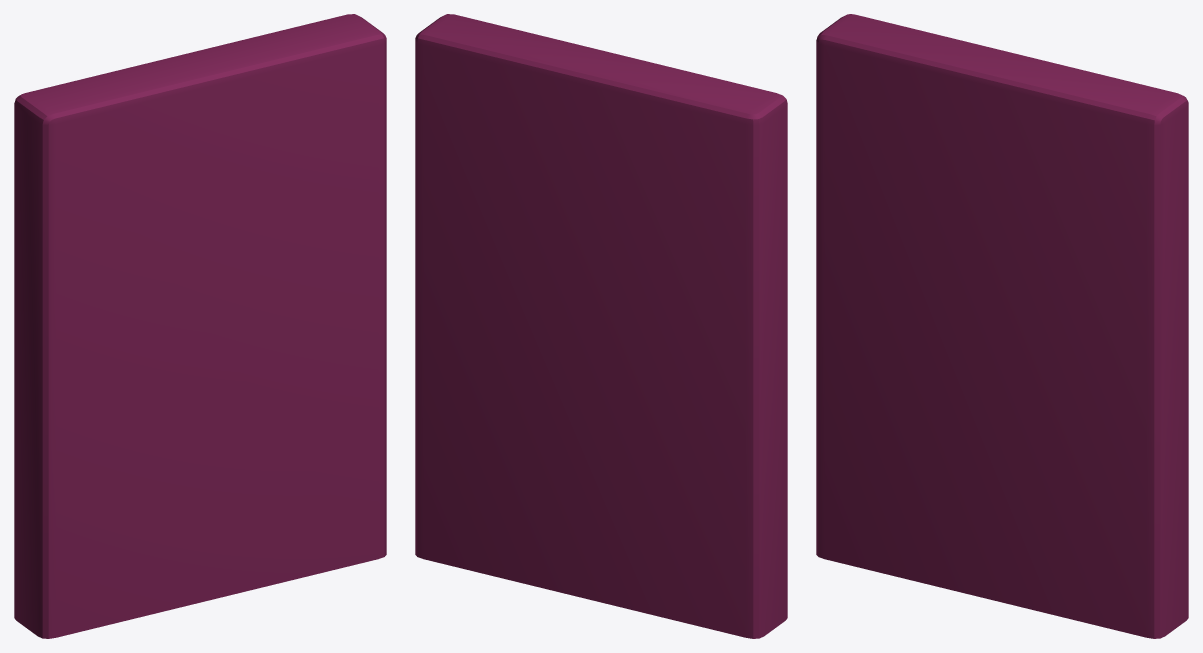
File: XWall_rootss100.fbx
3 views of the same model, side by side, from view 1: azimuth 30°, elevation 25°; view 2: azimuth 150°, elevation 25°; view 3: azimuth 330°, elevation 25° (orthographic).
Visible parts, largest first — view 1: XWall_sh_21, XWall_sh_44, XWall_sh_59, XWall_sh_84, XWall_sh_38, XWall_sh_36, XWall_sh_74, XWall_sh_95, XWall_sh_25, XWall_sh_1, XWall_sh_93, XWall_sh_40 (+54 smaller); view 2: XWall_sh_59, XWall_sh_1, XWall_sh_81, XWall_sh_21, XWall_sh_65, XWall_sh_11, XWall_sh_6, XWall_sh_94, XWall_sh_7, XWall_sh_92, XWall_sh_55, XWall_sh_31 (+54 smaller); view 3: XWall_sh_44, XWall_sh_74, XWall_sh_84, XWall_sh_38, XWall_sh_36, XWall_sh_95, XWall_sh_21, XWall_sh_25, XWall_sh_1, XWall_sh_93, XWall_sh_83, XWall_sh_40 (+56 smaller).
Part boxes in pixels (x1,y1,x2,y2): XWall_sh_21: [14, 499, 96, 638]; XWall_sh_44: [310, 16, 386, 153]; XWall_sh_59: [14, 77, 101, 179]; XWall_sh_84: [231, 289, 324, 385]; XWall_sh_38: [38, 362, 132, 473]; XWall_sh_36: [193, 55, 266, 158]; XWall_sh_74: [309, 484, 386, 572]; XWall_sh_95: [168, 214, 240, 306]; XWall_sh_25: [152, 373, 244, 461]; XWall_sh_1: [225, 14, 354, 97]; XWall_sh_93: [130, 464, 200, 553]; XWall_sh_40: [52, 560, 169, 638]; XWall_sh_59: [681, 83, 787, 181]; XWall_sh_1: [427, 21, 557, 126]; XWall_sh_81: [604, 325, 700, 412]; XWall_sh_21: [718, 480, 787, 638]; XWall_sh_65: [415, 317, 480, 421]; XWall_sh_11: [415, 30, 506, 146]; XWall_sh_6: [596, 395, 669, 494]; XWall_sh_94: [472, 321, 540, 444]; XWall_sh_7: [678, 455, 787, 559]; XWall_sh_92: [568, 59, 671, 122]; XWall_sh_55: [678, 418, 787, 495]; XWall_sh_31: [535, 473, 621, 556]; XWall_sh_44: [1078, 96, 1186, 212]; XWall_sh_74: [1078, 552, 1188, 638]; XWall_sh_84: [999, 313, 1092, 408]; XWall_sh_38: [816, 303, 900, 393]; XWall_sh_36: [962, 62, 1035, 167]; XWall_sh_95: [936, 208, 1008, 305]; XWall_sh_21: [816, 416, 864, 557]; XWall_sh_25: [920, 354, 1013, 447]; XWall_sh_1: [1046, 63, 1176, 139]; XWall_sh_93: [898, 437, 969, 538]; XWall_sh_83: [1090, 297, 1176, 384]; XWall_sh_40: [821, 513, 937, 586].
Size of the model in its own units: 250 by 360 by 42.1.
